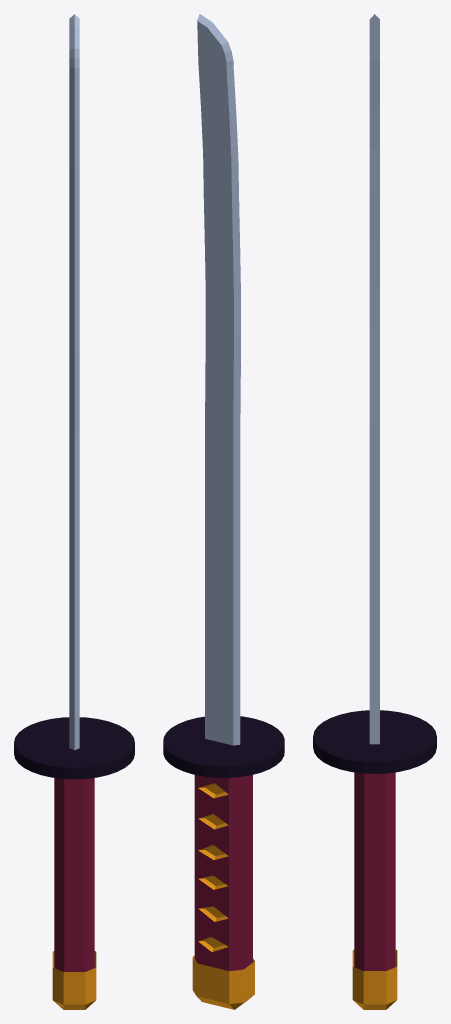
Rendered from katana.fbx.
3 views of the same model, side by side, from view 1: azimuth 90°, elevation 25°; view 2: azimuth 150°, elevation 25°; view 3: azimuth 270°, elevation 25° (orthographic). The views are drawn at different scales.
Parts seen in each view (by area): view 1: Cube; view 2: Cube; view 3: Cube.
Boxes of the visible parts, left/top/right/bottom form: Cube: left=14, top=14, right=134, bottom=1009; Cube: left=163, top=14, right=284, bottom=1009; Cube: left=313, top=14, right=436, bottom=1009.
Size of the model in its own units: 71.65 by 638 by 71.65.
1 material, 1 textured.
